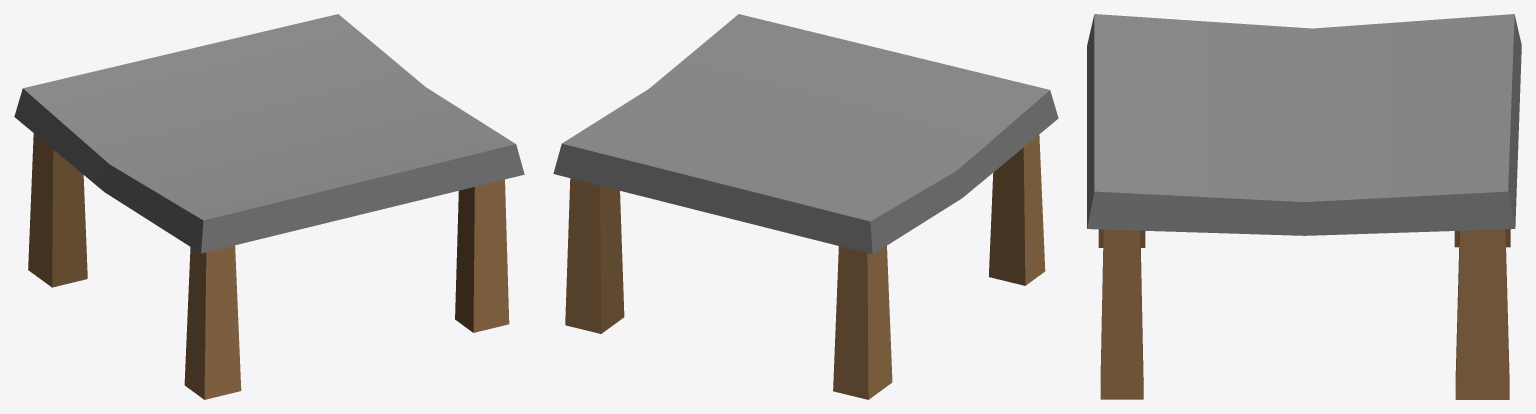
The model's file is Table_A1.fbx.
3 renders of one model, left to right at view 1: azimuth 30°, elevation 25°; view 2: azimuth 150°, elevation 25°; view 3: azimuth 270°, elevation 25°, orthographic. The views are drawn at different scales.
Parts seen in each view (by area): view 1: Table_A1; view 2: Table_A1; view 3: Table_A1.
Part boxes in pixels (left/top/right/bottom): Table_A1: left=14, top=14, right=524, bottom=399; Table_A1: left=553, top=14, right=1058, bottom=399; Table_A1: left=1087, top=14, right=1521, bottom=399.
Bounding box in the file's own units: 149 × 79.86 × 149.
